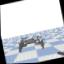drone: (15, 34, 46, 55)
